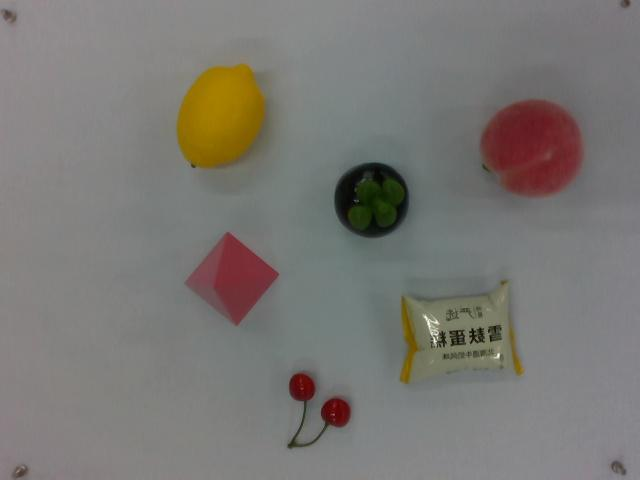cherry: (283, 369, 351, 455)
dessert: (400, 278, 521, 386)
lemon: (175, 59, 269, 173)
mangosteen: (336, 162, 409, 239)
peach: (476, 95, 587, 203)
pyramid: (185, 233, 279, 329)
